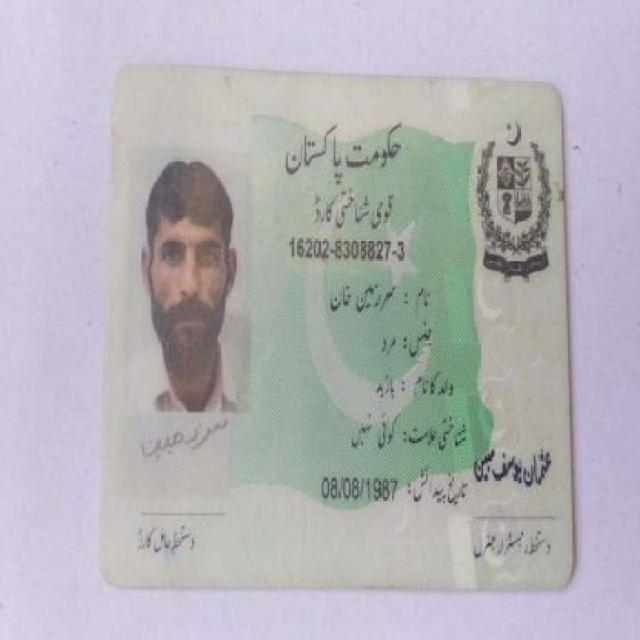Front: (98, 47, 577, 598)
